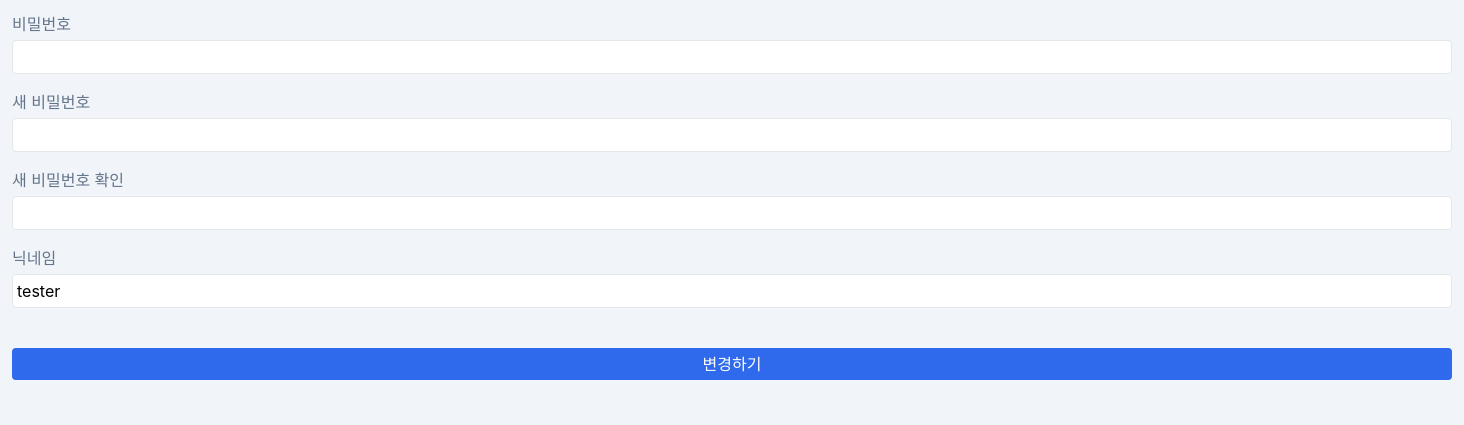
Test case: EditProfileForm › `비밀번호` 필드를 입력하지 않고 `변경하기` 버튼을 누르면 `비밀번호를 입력해주세요.` 메시지를 보여준다.
Type "newpwd1234" into the password field labelled "새 비밀번호" at x=732, y=135, box [12,118,1452,152]
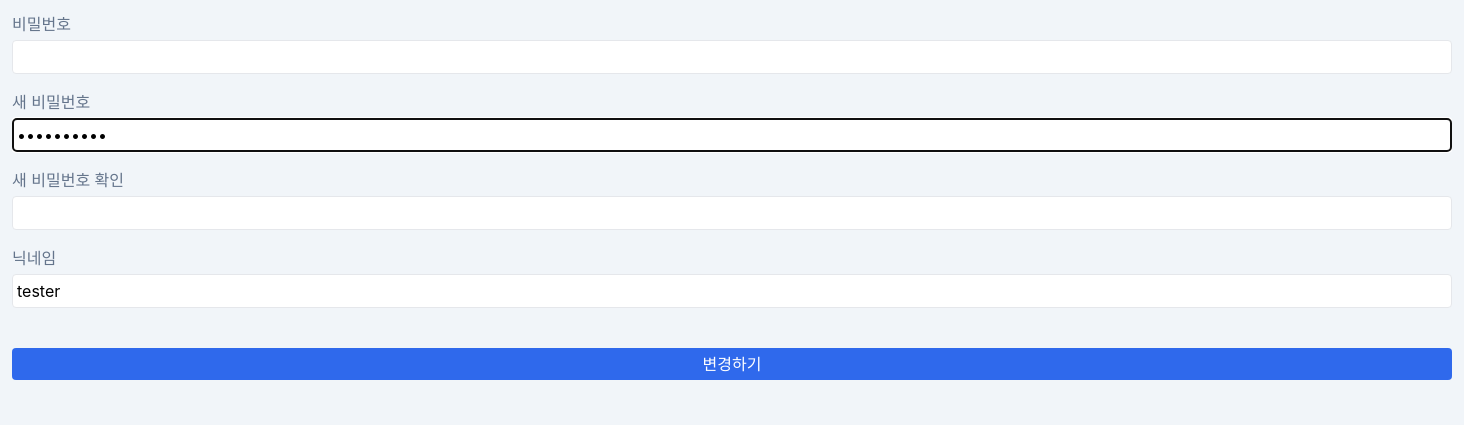
Type "newpwd1234" into the password field labelled "새 비밀번호 확인" at x=732, y=213, box [12,196,1452,230]
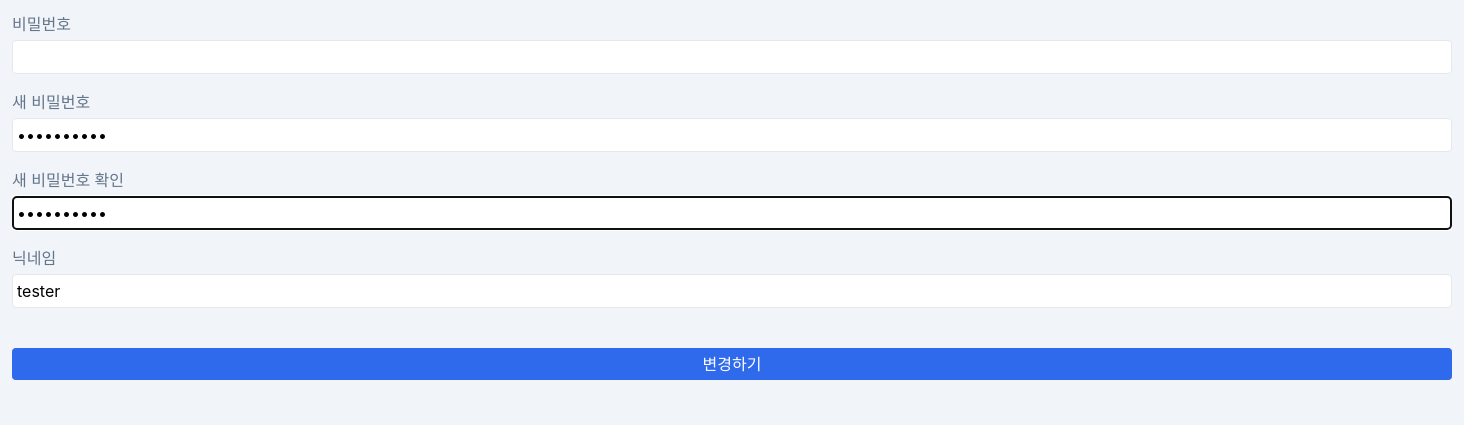
Type "tester1234" into the field labelled "닉네임" at x=732, y=291, box [12,274,1452,308]
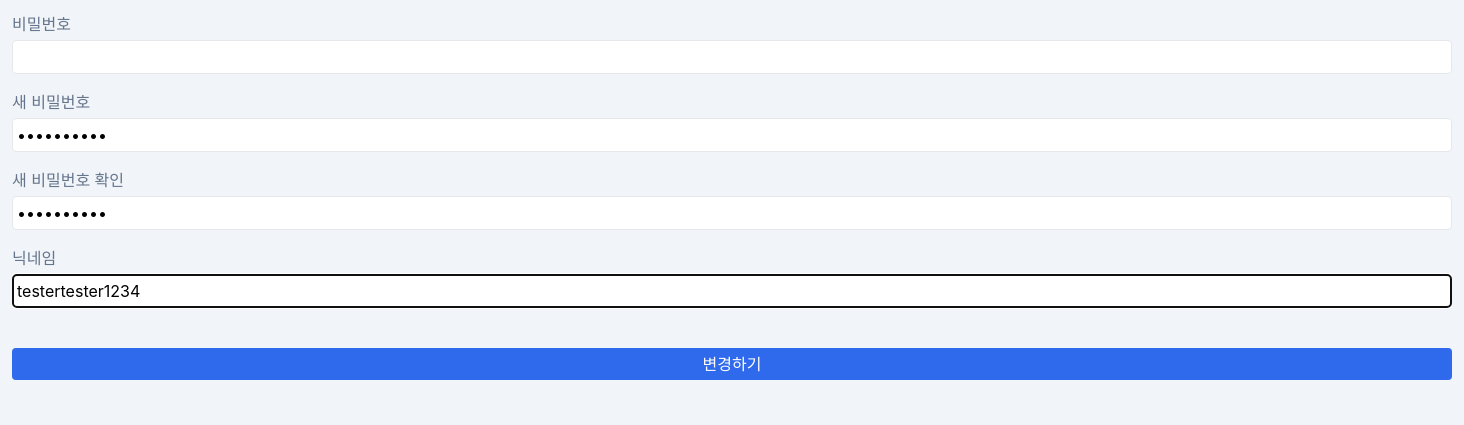
Click the button "변경하기" at x=732, y=364, box [12,348,1452,380]
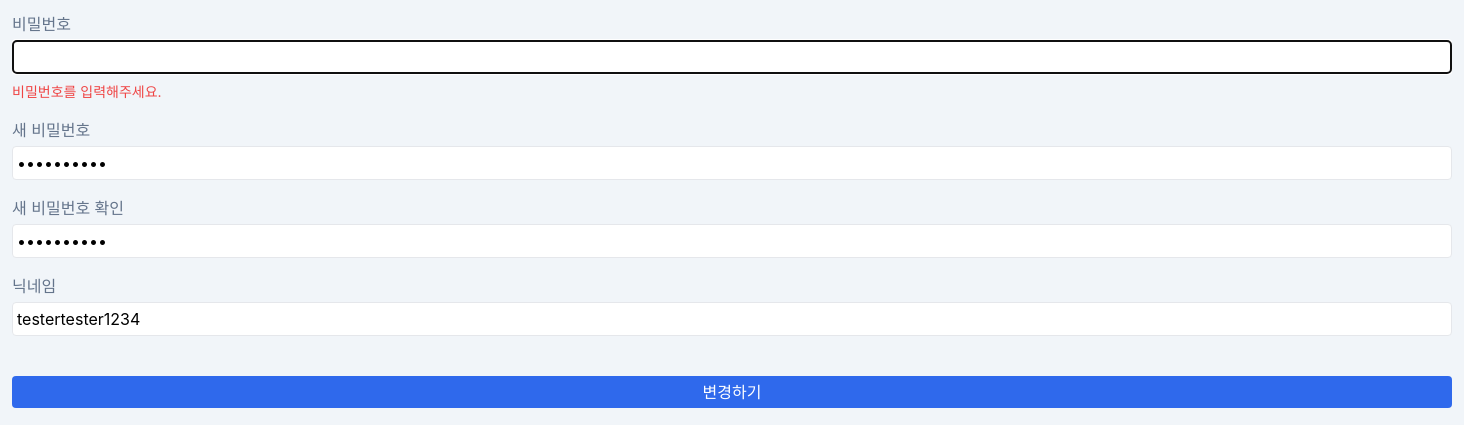
Check: the message reads "비밀번호를 입력해주세요.", box [12,83,162,100]
